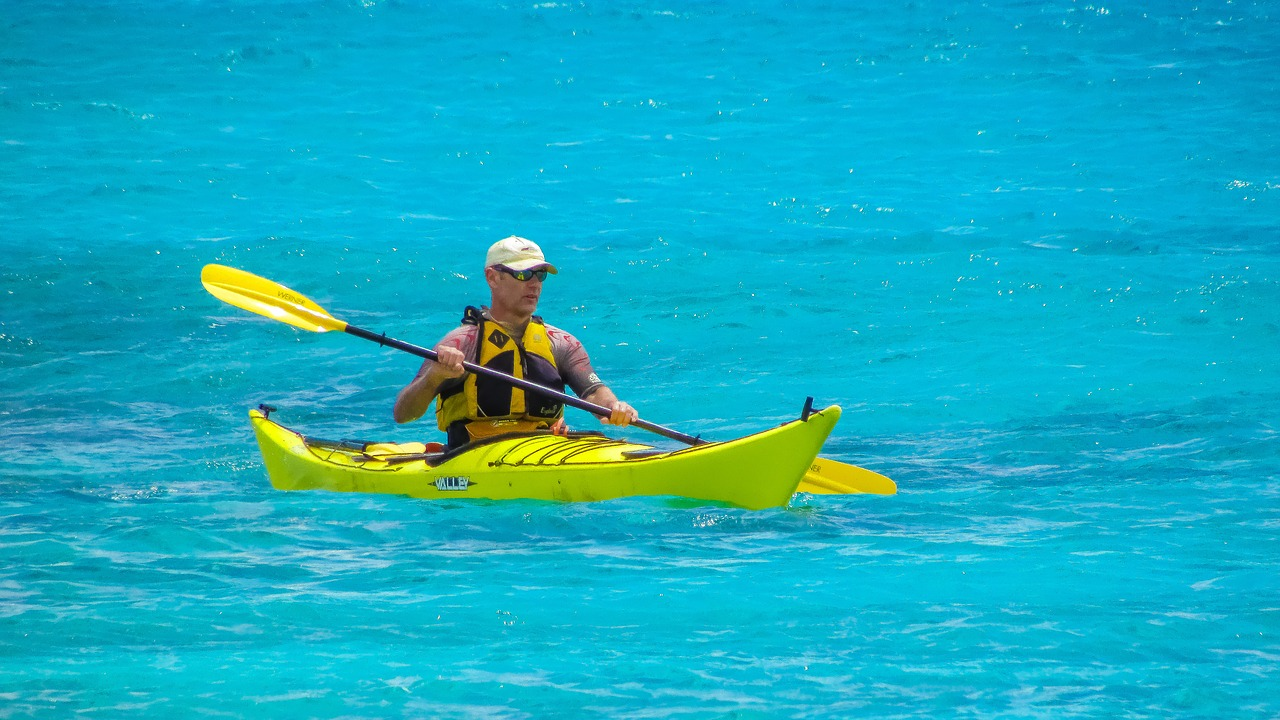kayak: (240, 392, 846, 514)
